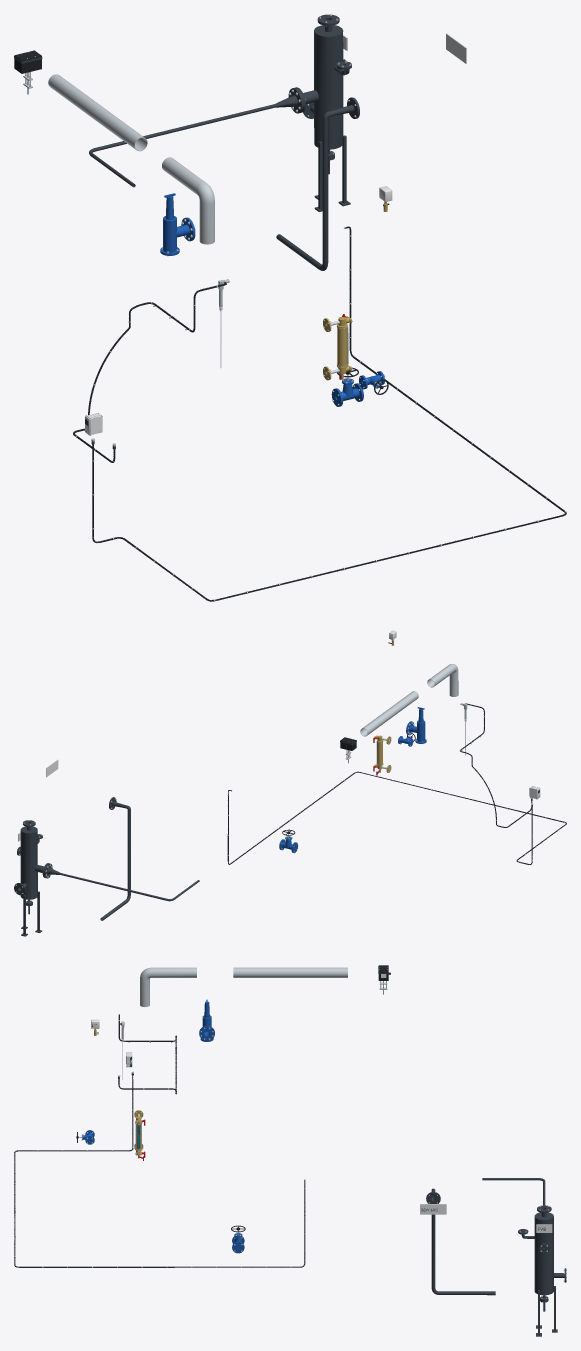
The picture shows the model from 3 angles, top to bottom: view 1: azimuth 30°, elevation 25°; view 2: azimuth 150°, elevation 25°; view 3: azimuth 270°, elevation 25°; orthographic projection. The views are drawn at different scales.
Parts seen in each view (by area): view 1: separator_fv8 / dark, wiring_pump_2 / black, steam_delivery / steel, bottom_to_bdv / dark, steam_rise / steel, tds_to_fv / dark, safety_2 / blue, sight_glasses_2 / sight_glasses_2_0.npz, wiring_lp400 / black; view 2: separator_fv8 / dark, wiring_pump_2 / black, steam_delivery / steel, bottom_to_bdv / dark, steam_rise / steel, tds_to_fv / dark, safety_2 / blue, sight_glasses_2 / sight_glasses_2_0.npz; view 3: separator_fv8 / dark, wiring_pump_2 / black, steam_delivery / steel, steam_rise / steel, bottom_to_bdv / dark.
Part boxes in pixels (x1,y1,x2,y2): separator_fv8 / dark: (294, 14, 351, 211); wiring_pump_2 / black: (92, 226, 566, 601); steam_delivery / steel: (48, 74, 147, 151); bottom_to_bdv / dark: (276, 97, 359, 270); steam_rise / steel: (162, 157, 214, 244); tds_to_fv / dark: (89, 88, 303, 187); safety_2 / blue: (160, 193, 195, 255); sight_glasses_2 / sight_glasses_2_0.npz: (323, 314, 352, 380); wiring_lp400 / black: (73, 282, 226, 462); separator_fv8 / dark: (14, 820, 48, 936); wiring_pump_2 / black: (227, 771, 566, 864); steam_delivery / steel: (360, 691, 418, 736); bottom_to_bdv / dark: (100, 797, 130, 920); steam_rise / steel: (427, 664, 458, 696); tds_to_fv / dark: (44, 863, 199, 901); safety_2 / blue: (406, 707, 426, 743); sight_glasses_2 / sight_glasses_2_0.npz: (373, 735, 391, 775); separator_fv8 / dark: (518, 1205, 566, 1336); wiring_pump_2 / black: (14, 1075, 305, 1267); steam_delivery / steel: (233, 967, 347, 977); steam_rise / steel: (140, 967, 196, 1006); bottom_to_bdv / dark: (426, 1188, 495, 1295).
Bounding box in the file's own units: 5.19 × 2.82 × 6.24.
